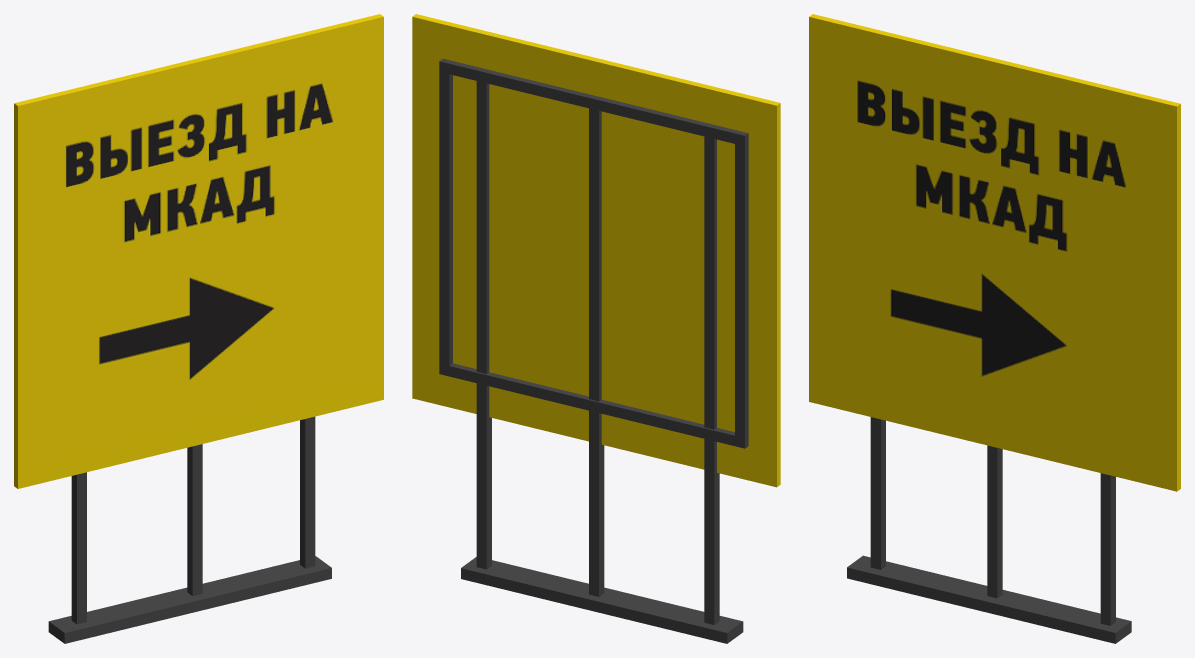
File: Mkad_1.FBX
3 views of the same model, side by side, from view 1: azimuth 30°, elevation 25°; view 2: azimuth 150°, elevation 25°; view 3: azimuth 330°, elevation 25° (orthographic).
Visible parts, largest first — view 1: Box002; view 2: Box002; view 3: Box002.
Part boxes in pixels (x1=…): Box002: x1=14, y1=14, x2=383, y2=643; Box002: x1=412, y1=14, x2=780, y2=643; Box002: x1=809, y1=14, x2=1180, y2=643.
Size of the model in its own units: 45.83 by 65.2 by 3.49.
2 materials, 1 textured.
